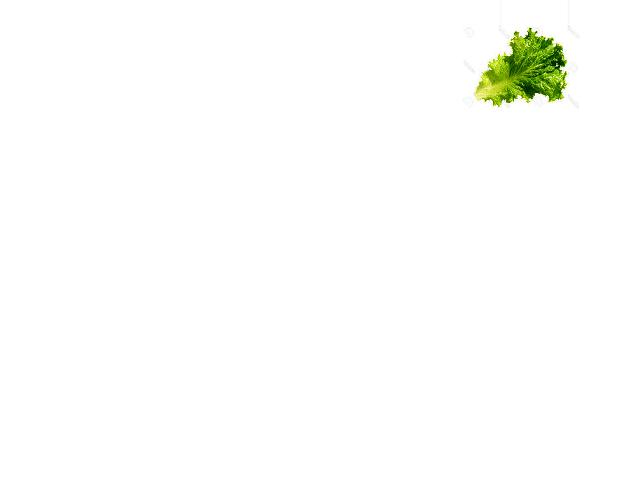lettuce: (473, 29, 567, 102)
